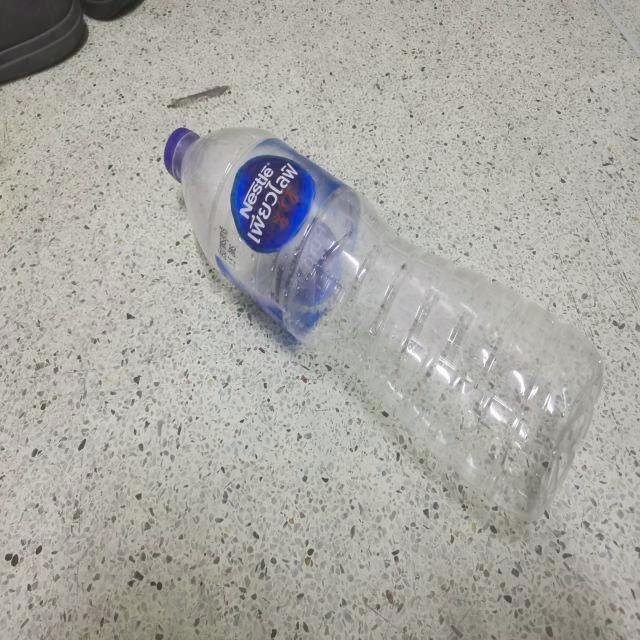bottle: (164, 128, 603, 521)
